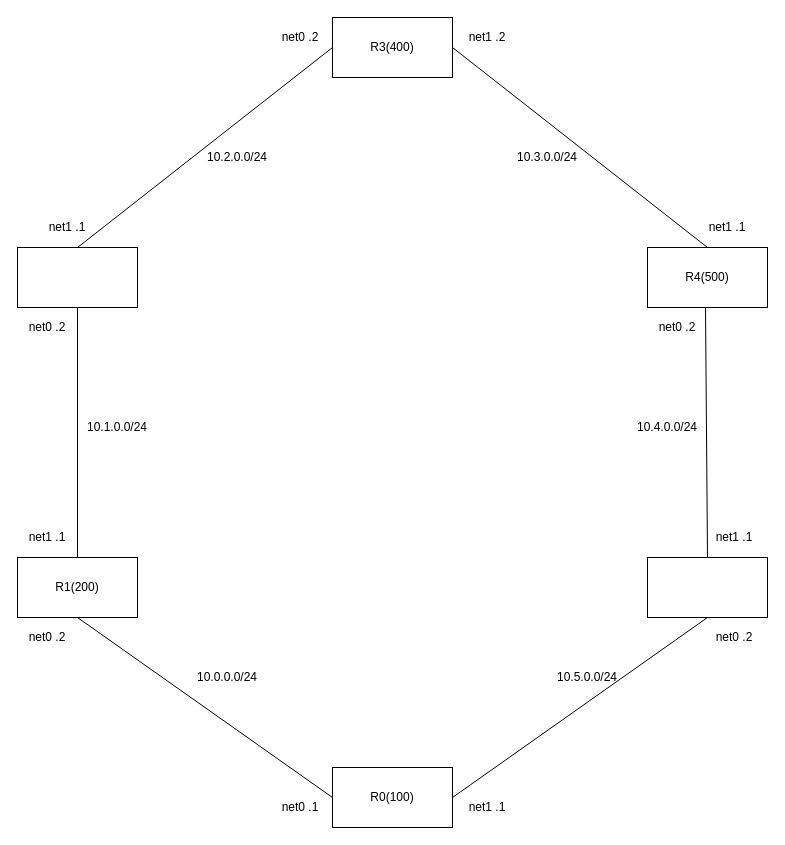
Some shapes in this 785 by 845 pixel diagram are drawn without their labels. Here are the shapes that lost their labels. From the top down, the centre of each, then its label:
At point 77,277: "R2(300)".
At point 707,587: "R5(600)".
